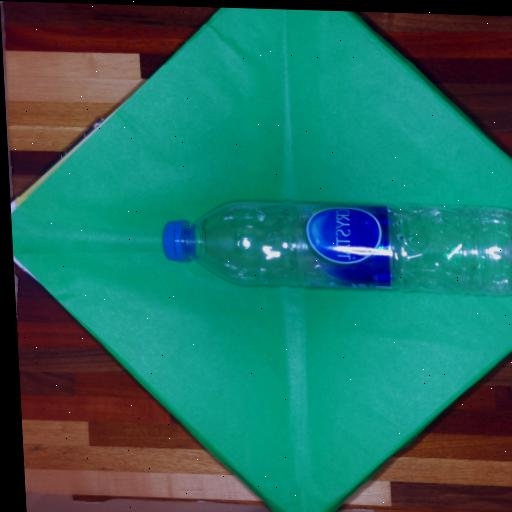bottle: (144, 174, 512, 308)
